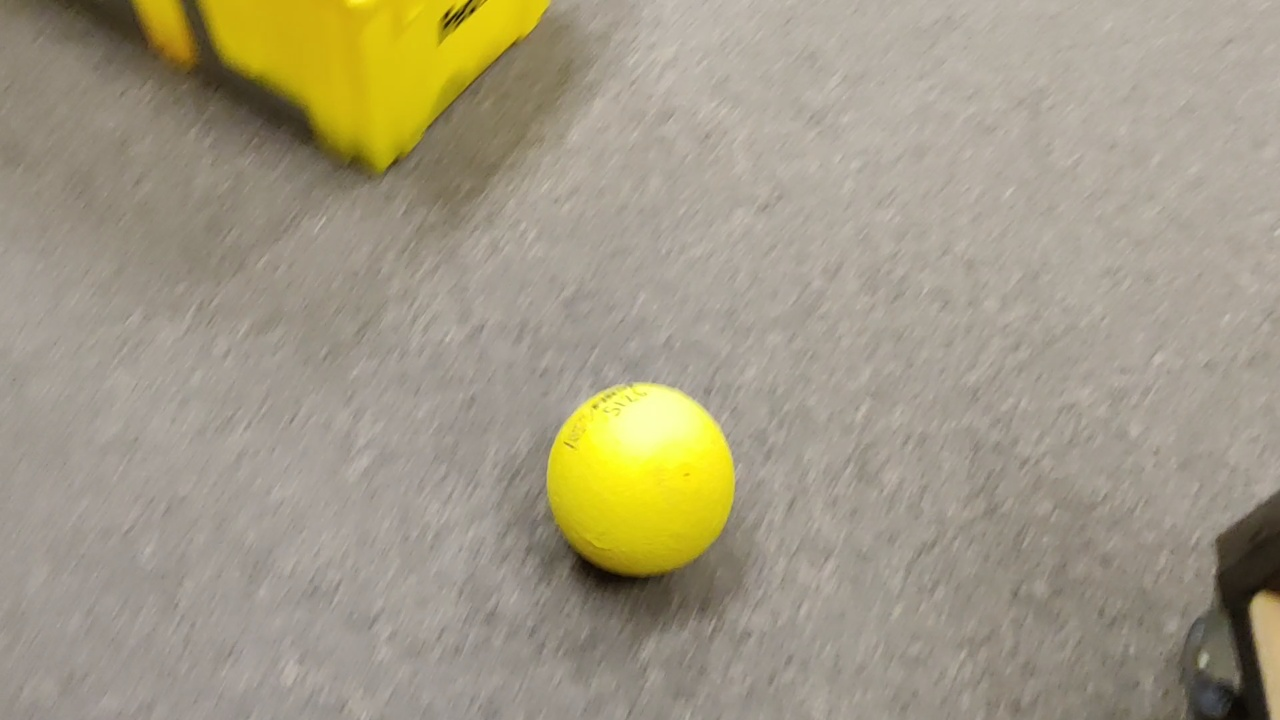Ball: (549, 383, 739, 578)
